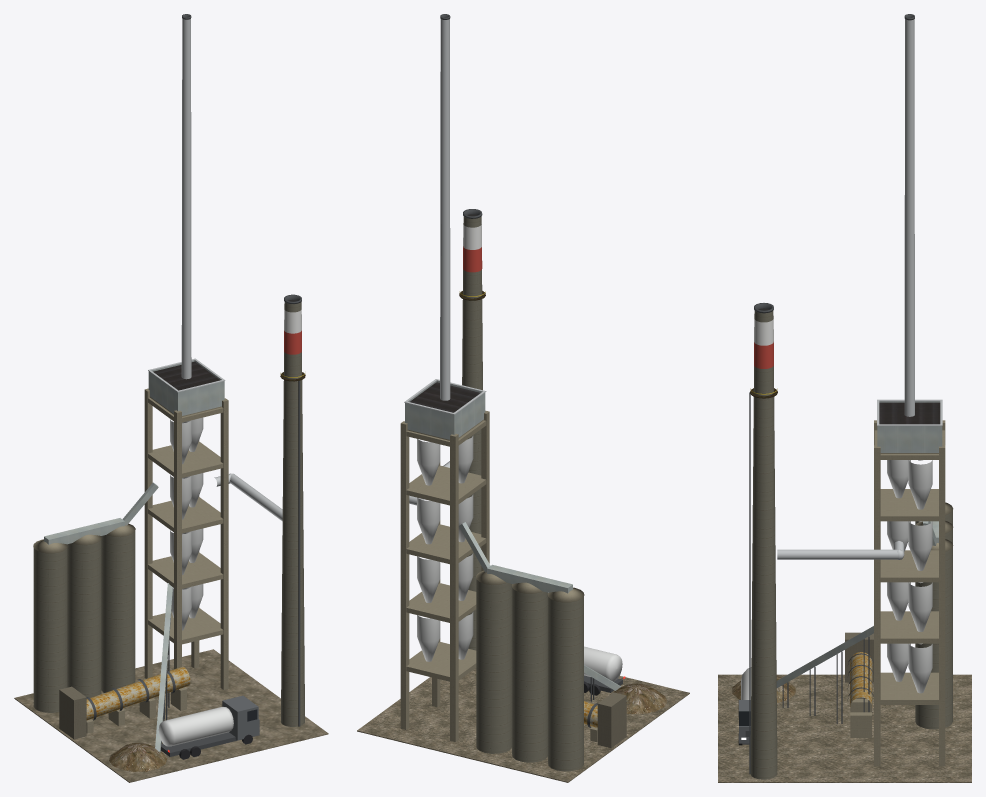
The model's file is cement_works.glb.
3 renders of one model, left to right at view 1: azimuth 30°, elevation 25°; view 2: azimuth 150°, elevation 25°; view 3: azimuth 270°, elevation 25°, orthographic. The views are drawn at different scales.
Parts seen in each view (by area): view 1: cement_works_body; view 2: cement_works_body; view 3: cement_works_body.
Boxes of the visible parts, x1=… form: cement_works_body: x1=14, y1=14, x2=328, y2=782; cement_works_body: x1=357, y1=14, x2=689, y2=782; cement_works_body: x1=718, y1=14, x2=971, y2=782.
Size of the model in its own units: 0.94 by 3.01 by 0.94.
Materials: 21 (9 with a texture image).
